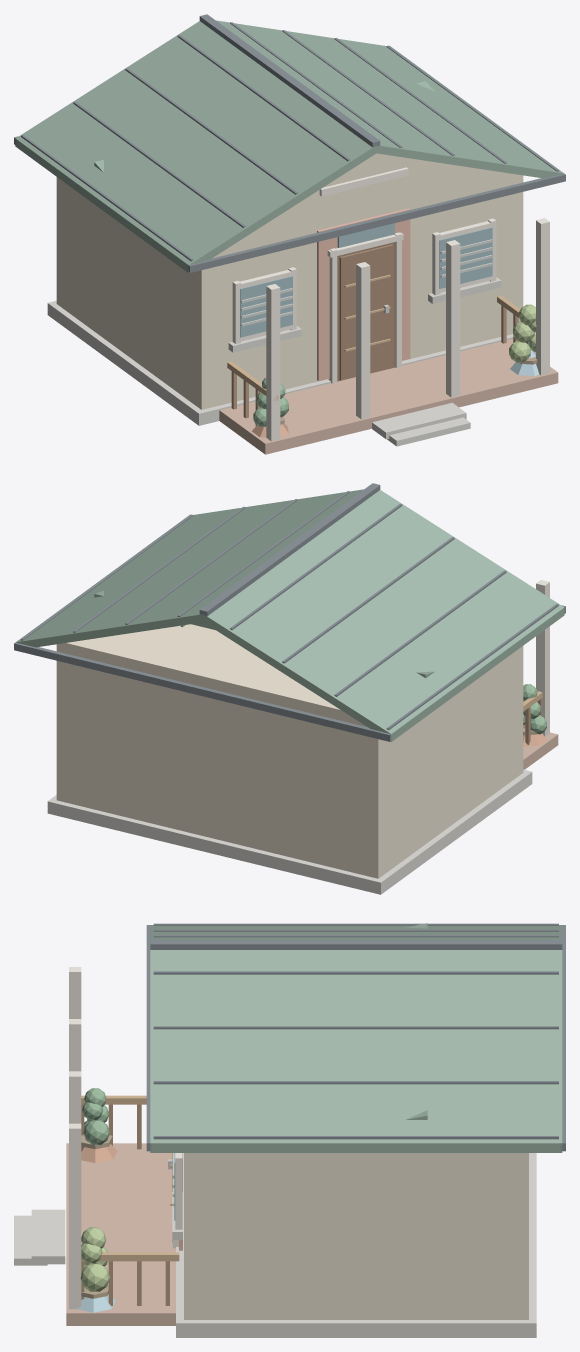
File: 02_Painted_Porch_Bungalow.fbx
3 renders of one model, top to bottom at view 1: azimuth 30°, elevation 25°; view 2: azimuth 150°, elevation 25°; view 3: azimuth 270°, elevation 25°, orthographic. The views are drawn at different scales.
Visible parts, largest first — view 1: H02_005_SageGreenRoof_LeftSlope, H02_002_MainWalls, H02_006_SageGreenRoof_RightSlope, H02_048_DeepFrontVeranda_Slab, H02_004_GableWall, H02_019_WoodFrontDoor_DoorLeaf, H02_001_FoundationSlab, H02_007_SageGreenRoof_FrontFascia, H02_003_EntryAccentPanel, H02_057_DeepFrontVeranda_Post1, H02_058_DeepFrontVeranda_Post2, H02_059_DeepFrontVeranda_Post3 (+22 smaller); view 2: H02_002_MainWalls, H02_005_SageGreenRoof_LeftSlope, H02_006_SageGreenRoof_RightSlope, H02_001_FoundationSlab, H02_008_SageGreenRoof_BackFascia, H02_009_SageGreenRoof_RidgeCap, H02_057_DeepFrontVeranda_Post1, H02_011_SageGreenRoof_Rib02, H02_013_SageGreenRoof_Rib04, H02_012_SageGreenRoof_Rib03, H02_010_SageGreenRoof_Rib01, H02_017_SageGreenRoof_Rib08 (+4 smaller); view 3: H02_006_SageGreenRoof_RightSlope, H02_002_MainWalls, H02_048_DeepFrontVeranda_Slab, H02_001_FoundationSlab, H02_005_SageGreenRoof_LeftSlope, H02_009_SageGreenRoof_RidgeCap, H02_060_DeepFrontVeranda_Post4, H02_049_DeepFrontVeranda_Step1, H02_014_SageGreenRoof_Rib05, H02_015_SageGreenRoof_Rib06, H02_016_SageGreenRoof_Rib07, H02_017_SageGreenRoof_Rib08 (+13 smaller).
Part boxes in pixels (x1=…): H02_005_SageGreenRoof_LeftSlope: x1=15, y1=21, x2=376, y2=273; H02_002_MainWalls: x1=56, y1=174, x2=523, y2=409; H02_006_SageGreenRoof_RightSlope: x1=216, y1=20, x2=563, y2=178; H02_048_DeepFrontVeranda_Slab: x1=219, y1=339, x2=558, y2=454; H02_004_GableWall: x1=237, y1=153, x2=514, y2=242; H02_019_WoodFrontDoor_DoorLeaf: x1=339, y1=244, x2=393, y2=380; H02_001_FoundationSlab: x1=47, y1=300, x2=513, y2=425; H02_007_SageGreenRoof_FrontFascia: x1=187, y1=173, x2=565, y2=272; H02_003_EntryAccentPanel: x1=317, y1=208, x2=410, y2=380; H02_057_DeepFrontVeranda_Post1: x1=266, y1=284, x2=280, y2=441; H02_058_DeepFrontVeranda_Post2: x1=356, y1=262, x2=370, y2=419; H02_059_DeepFrontVeranda_Post3: x1=446, y1=240, x2=460, y2=397; H02_002_MainWalls: x1=56, y1=624, x2=523, y2=878; H02_005_SageGreenRoof_LeftSlope: x1=203, y1=490, x2=564, y2=741; H02_006_SageGreenRoof_RightSlope: x1=16, y1=489, x2=363, y2=647; H02_001_FoundationSlab: x1=47, y1=769, x2=532, y2=894; H02_008_SageGreenRoof_BackFascia: x1=14, y1=642, x2=391, y2=741; H02_009_SageGreenRoof_RidgeCap: x1=199, y1=483, x2=380, y2=616; H02_057_DeepFrontVeranda_Post1: x1=536, y1=580, x2=549, y2=736; H02_011_SageGreenRoof_Rib02: x1=334, y1=570, x2=506, y2=696; H02_013_SageGreenRoof_Rib04: x1=230, y1=503, x2=402, y2=630; H02_012_SageGreenRoof_Rib03: x1=282, y1=537, x2=454, y2=663; H02_010_SageGreenRoof_Rib01: x1=386, y1=604, x2=558, y2=730; H02_017_SageGreenRoof_Rib08: x1=21, y1=514, x2=193, y2=640; H02_006_SageGreenRoof_RightSlope: x1=150, y1=950, x2=562, y2=1152; H02_002_MainWalls: x1=184, y1=1153, x2=528, y2=1319; H02_048_DeepFrontVeranda_Slab: x1=66, y1=1143, x2=175, y2=1325; H02_001_FoundationSlab: x1=176, y1=1153, x2=536, y2=1337; H02_005_SageGreenRoof_LeftSlope: x1=150, y1=925, x2=562, y2=939; H02_009_SageGreenRoof_RidgeCap: x1=150, y1=939, x2=562, y2=949; H02_060_DeepFrontVeranda_Post4: x1=69, y1=1123, x2=81, y2=1309; H02_049_DeepFrontVeranda_Step1: x1=31, y1=1209, x2=65, y2=1264; H02_014_SageGreenRoof_Rib05: x1=153, y1=971, x2=558, y2=974; H02_015_SageGreenRoof_Rib06: x1=153, y1=1026, x2=558, y2=1029; H02_016_SageGreenRoof_Rib07: x1=153, y1=1081, x2=558, y2=1084; H02_017_SageGreenRoof_Rib08: x1=153, y1=1136, x2=558, y2=1139.
Bounding box in the file's own units: 584 × 377 × 624.
